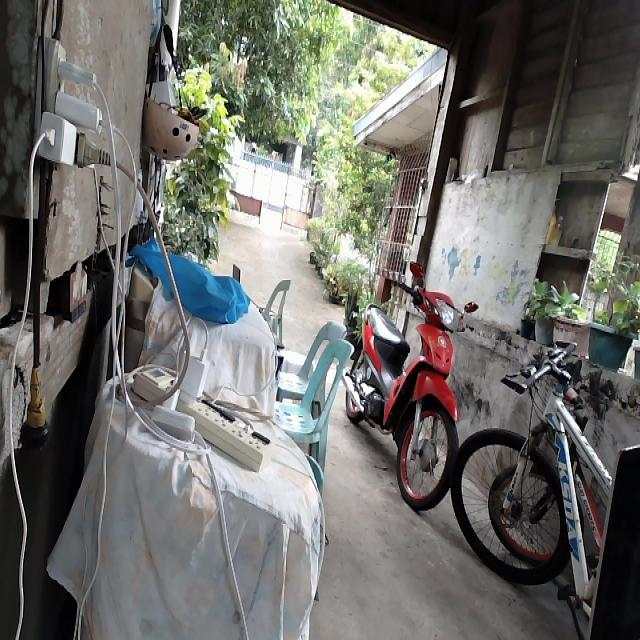-: (28, 32, 116, 173)
